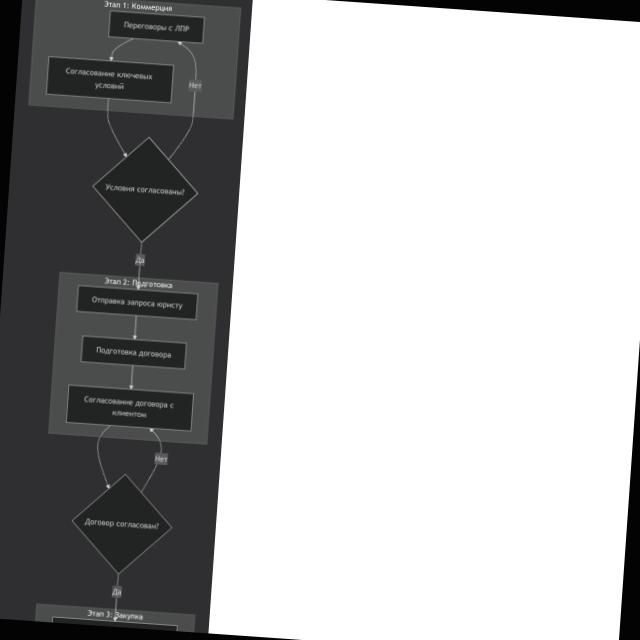arrow: (166, 42, 200, 162), (91, 422, 121, 490), (100, 97, 132, 159), (140, 428, 168, 493), (108, 34, 138, 62), (134, 241, 146, 290), (124, 364, 138, 391), (130, 314, 140, 339)
diamond: (94, 138, 197, 241), (73, 475, 170, 573)
rectangle: (46, 56, 173, 102), (67, 385, 193, 431), (77, 286, 197, 320), (81, 336, 186, 369), (109, 10, 204, 43)
text_region: (100, 273, 178, 291), (95, 0, 180, 12), (128, 252, 155, 267)
